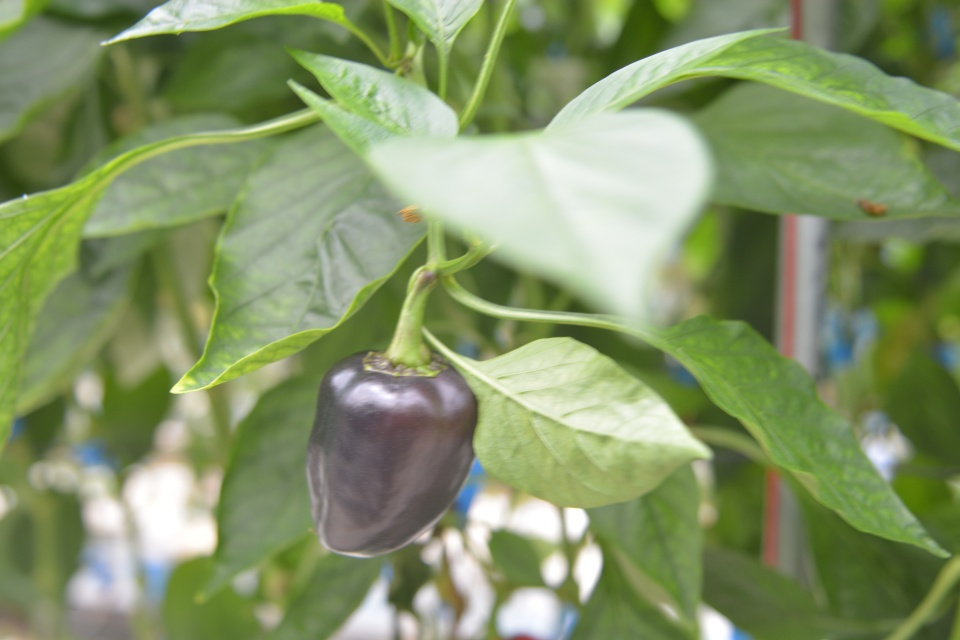fruit: (300, 338, 483, 562)
pedicle: (364, 349, 454, 381)
